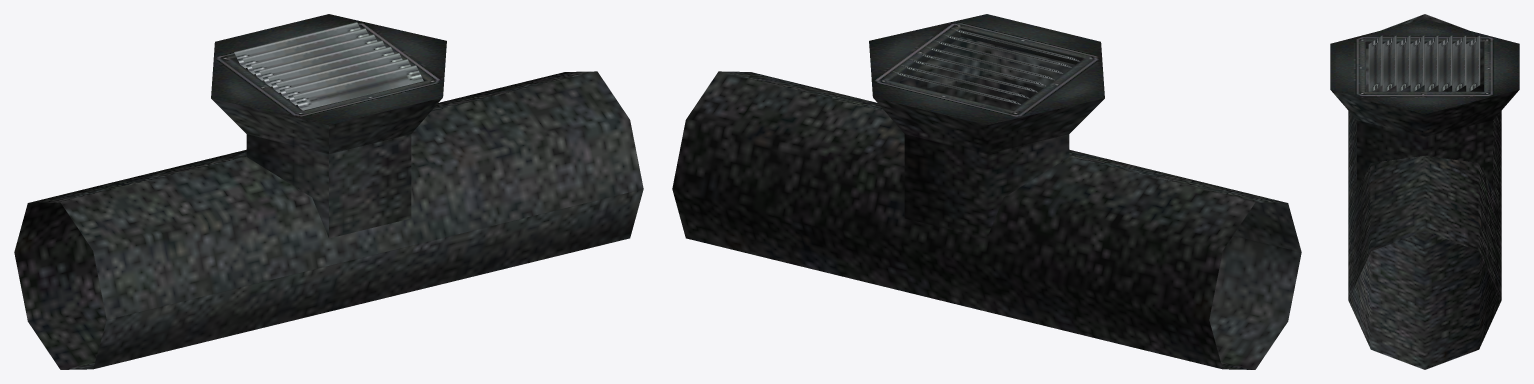
Rendered from airducts_round_1m.fbx.
The picture shows the model from 3 angles, left to right: view 1: azimuth 30°, elevation 25°; view 2: azimuth 150°, elevation 25°; view 3: azimuth 270°, elevation 25°; orthographic projection. The views are drawn at different scales.
Parts seen in each view (by area): view 1: mesh_0; view 2: mesh_0; view 3: mesh_0.
Boxes of the visible parts, left/top/right/bottom form: mesh_0: left=14, top=14, right=643, bottom=369; mesh_0: left=672, top=14, right=1301, bottom=369; mesh_0: left=1330, top=14, right=1519, bottom=369.
Bounding box in the file's own units: 100 × 43.23 × 36.8.
1 material, 1 textured.
